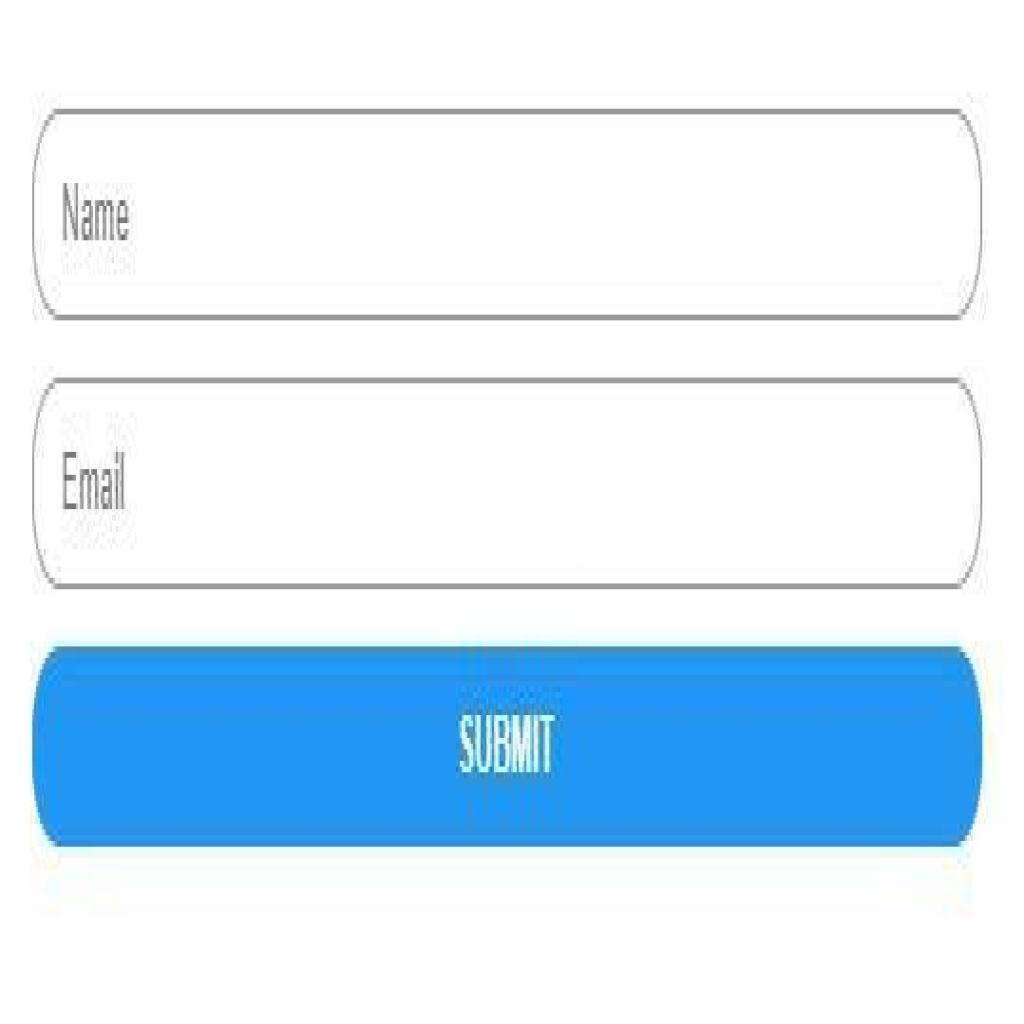button: (34, 641, 982, 852)
input: (32, 109, 982, 320), (32, 378, 982, 589)
